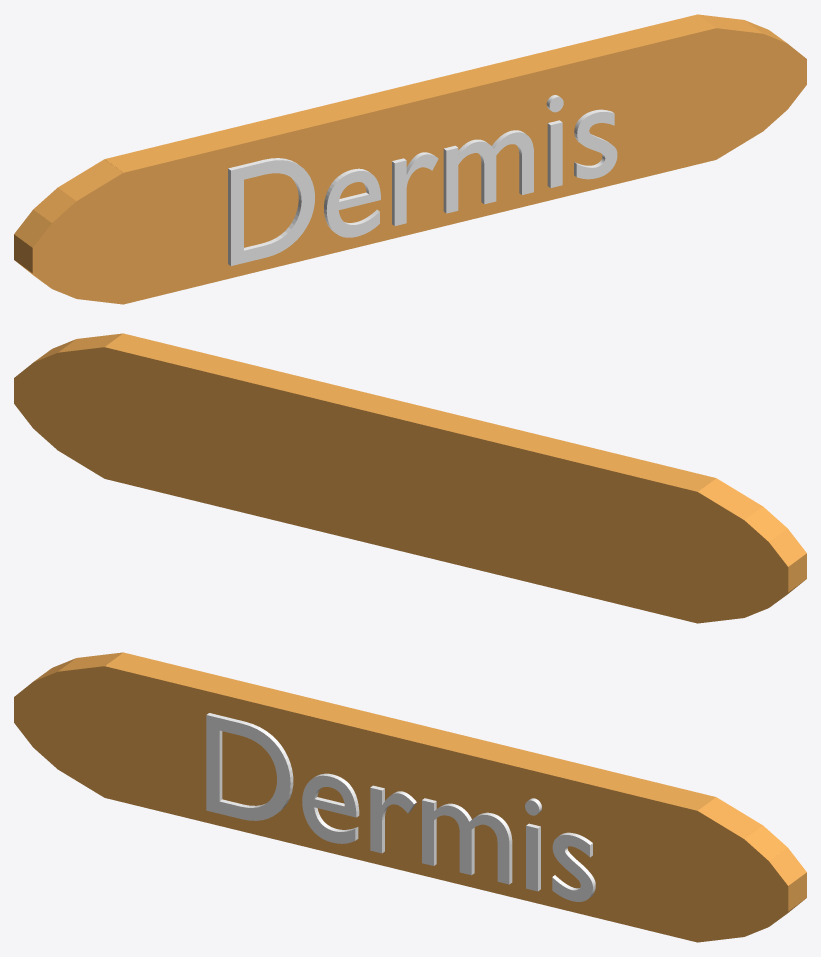
The model's file is txtDermis.fbx.
3 views of the same model, one above another, from view 1: azimuth 30°, elevation 25°; view 2: azimuth 150°, elevation 25°; view 3: azimuth 330°, elevation 25° (orthographic).
Visible parts, largest first — view 1: TagContainer.025, Text.025; view 2: TagContainer.025; view 3: TagContainer.025, Text.025.
Part boxes in pixels (x1=…): TagContainer.025: x1=14, y1=14, x2=806, y2=304; Text.025: x1=228, y1=95, x2=617, y2=265; TagContainer.025: x1=14, y1=333, x2=806, y2=623; TagContainer.025: x1=14, y1=652, x2=806, y2=942; Text.025: x1=206, y1=713, x2=595, y2=901.
Size of the model in its own units: 178 by 28.89 by 8.61.
